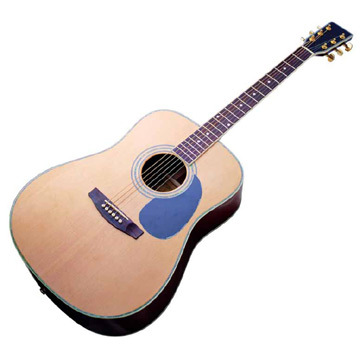guitar: (8, 20, 355, 338)
